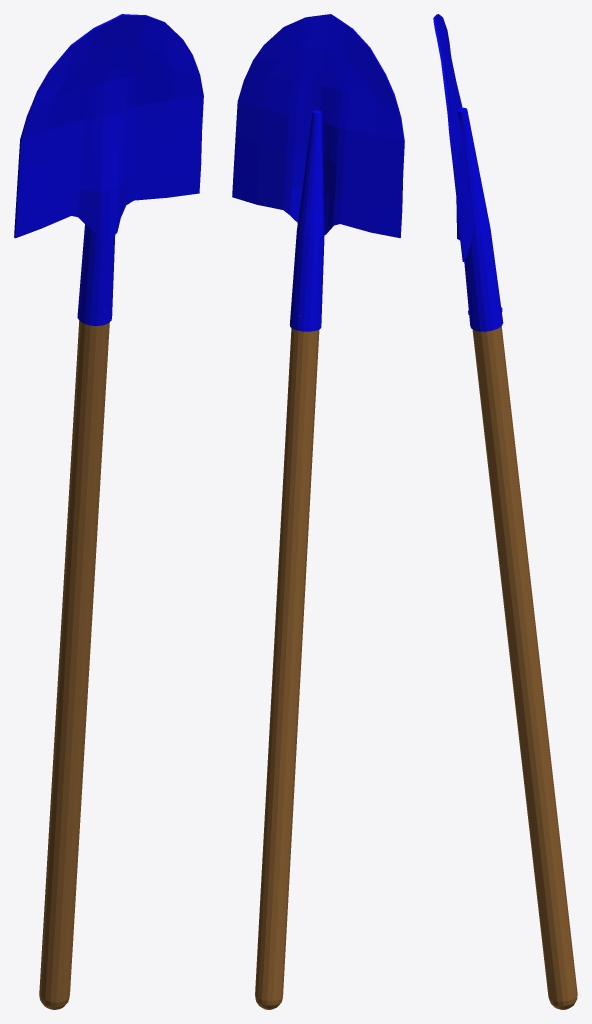
File: pelle.fbx
The picture shows the model from 3 angles, left to right: view 1: azimuth 30°, elevation 25°; view 2: azimuth 150°, elevation 25°; view 3: azimuth 270°, elevation 25°; orthographic projection. The views are drawn at different scales.
Visible parts, largest first — view 1: Pelle; view 2: Pelle; view 3: Pelle.
Part boxes in pixels (x1,y1,x2,y2): Pelle: (14,14,203,1009); Pelle: (232,14,404,1009); Pelle: (433,14,577,1009).
Bounding box in the file's own units: 99.93 × 540 × 71.3.
